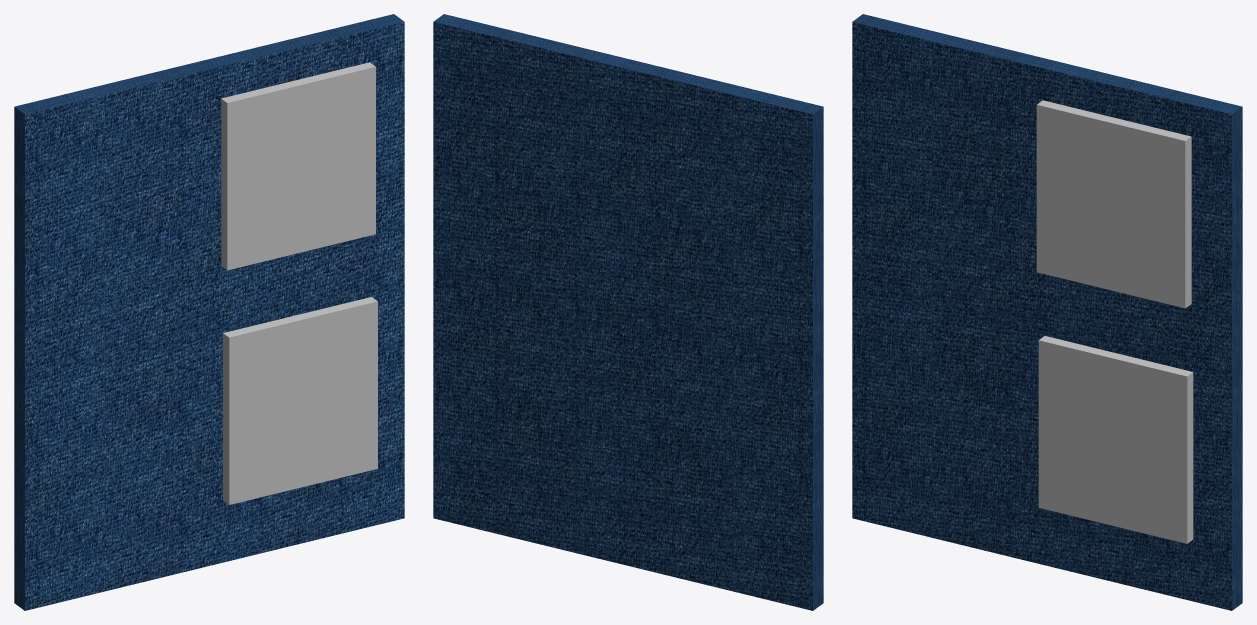
The model's file is stageWall.fbx.
3 renders of one model, left to right at view 1: azimuth 30°, elevation 25°; view 2: azimuth 150°, elevation 25°; view 3: azimuth 330°, elevation 25°, orthographic.
Parts seen in each view (by area): view 1: pCube1, pCube3, pCube2; view 2: pCube1; view 3: pCube1, pCube2, pCube3.
Boxes of the visible parts, bbox=[...] form: pCube1: bbox=[14, 14, 404, 610]; pCube3: bbox=[221, 62, 375, 270]; pCube2: bbox=[223, 297, 377, 504]; pCube1: bbox=[433, 14, 823, 610]; pCube1: bbox=[852, 14, 1242, 610]; pCube2: bbox=[1038, 336, 1193, 543]; pCube3: bbox=[1036, 100, 1191, 308].
Size of the model in its own units: 12.08 by 15.1 by 1.08.
